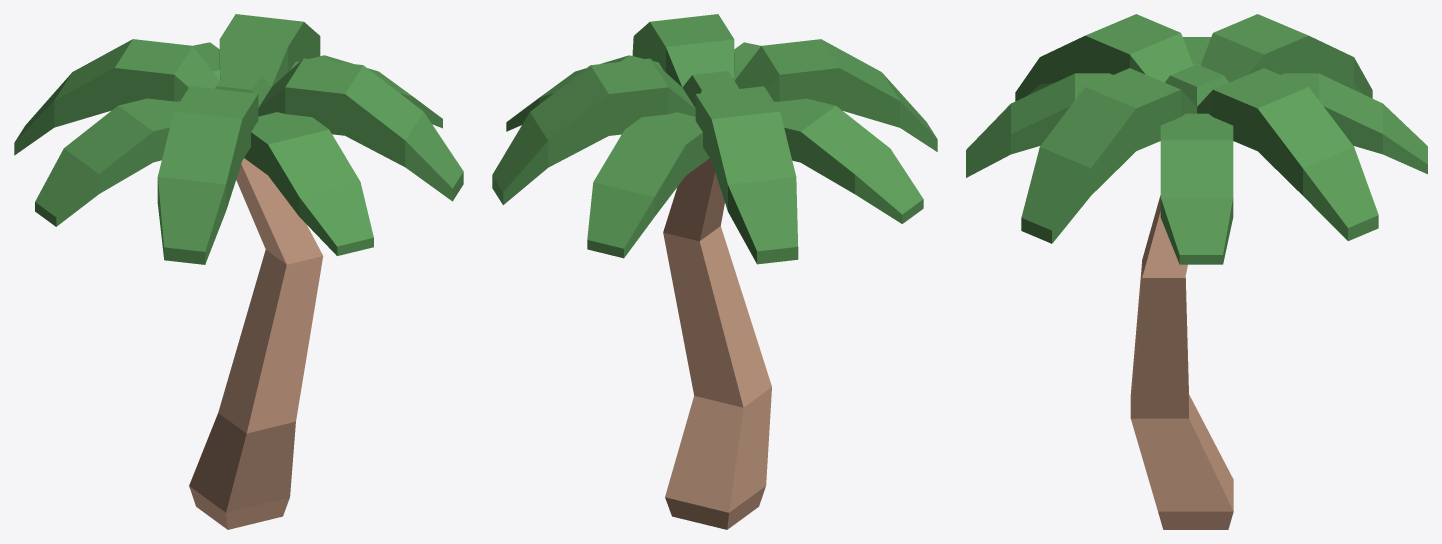
File: palm_short.fbx
3 renders of one model, left to right at view 1: azimuth 30°, elevation 25°; view 2: azimuth 150°, elevation 25°; view 3: azimuth 270°, elevation 25°, orthographic. The views are drawn at different scales.
Parts seen in each view (by area): view 1: tree_palmDetailedShort; view 2: tree_palmDetailedShort; view 3: tree_palmDetailedShort.
Part boxes in pixels (x1,y1,x2,y2): tree_palmDetailedShort: (14,14,463,529); tree_palmDetailedShort: (492,14,937,529); tree_palmDetailedShort: (966,14,1427,529).
Size of the model in its own units: 0.7071 by 0.7684 by 0.7071.
